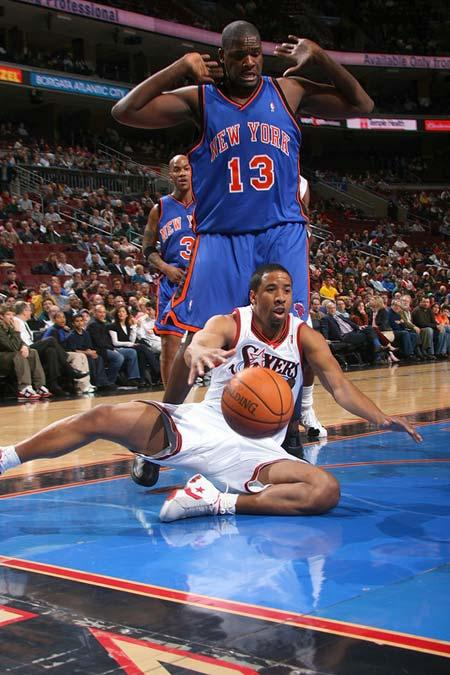bending: (6, 261, 427, 523)
up: (114, 2, 374, 446), (129, 154, 202, 385)
